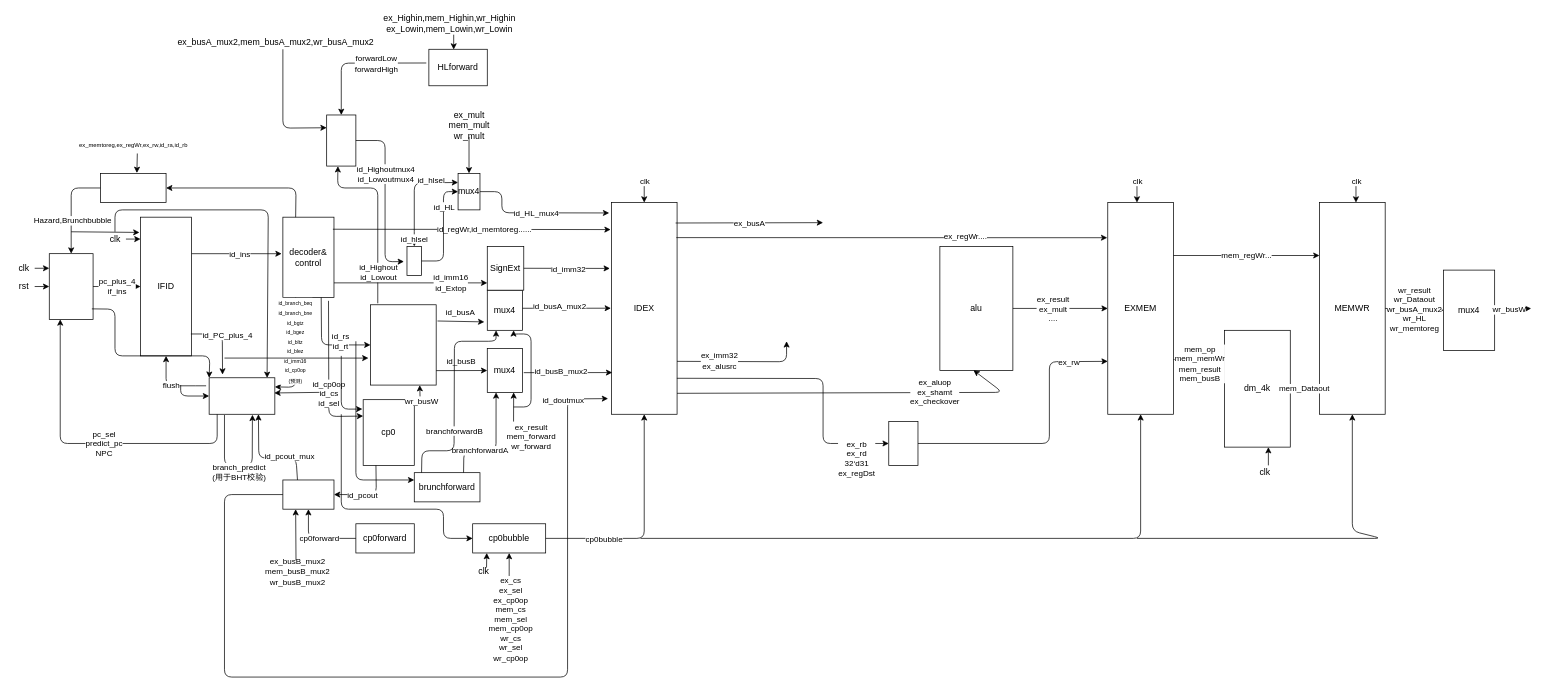
Image size: 1550x696. Some labels were removed from this diagram. Each missing label, with the centre of its shape:
hazard&brunchbubble: (133,188)
mux2: (414,261)
mux3: (903,443)
mux4 (double) data & pc: (308,494)
mux4High mux4Low: (341,140)
NPC: (241,395)
PC: (71,286)
regfile: (403,344)
